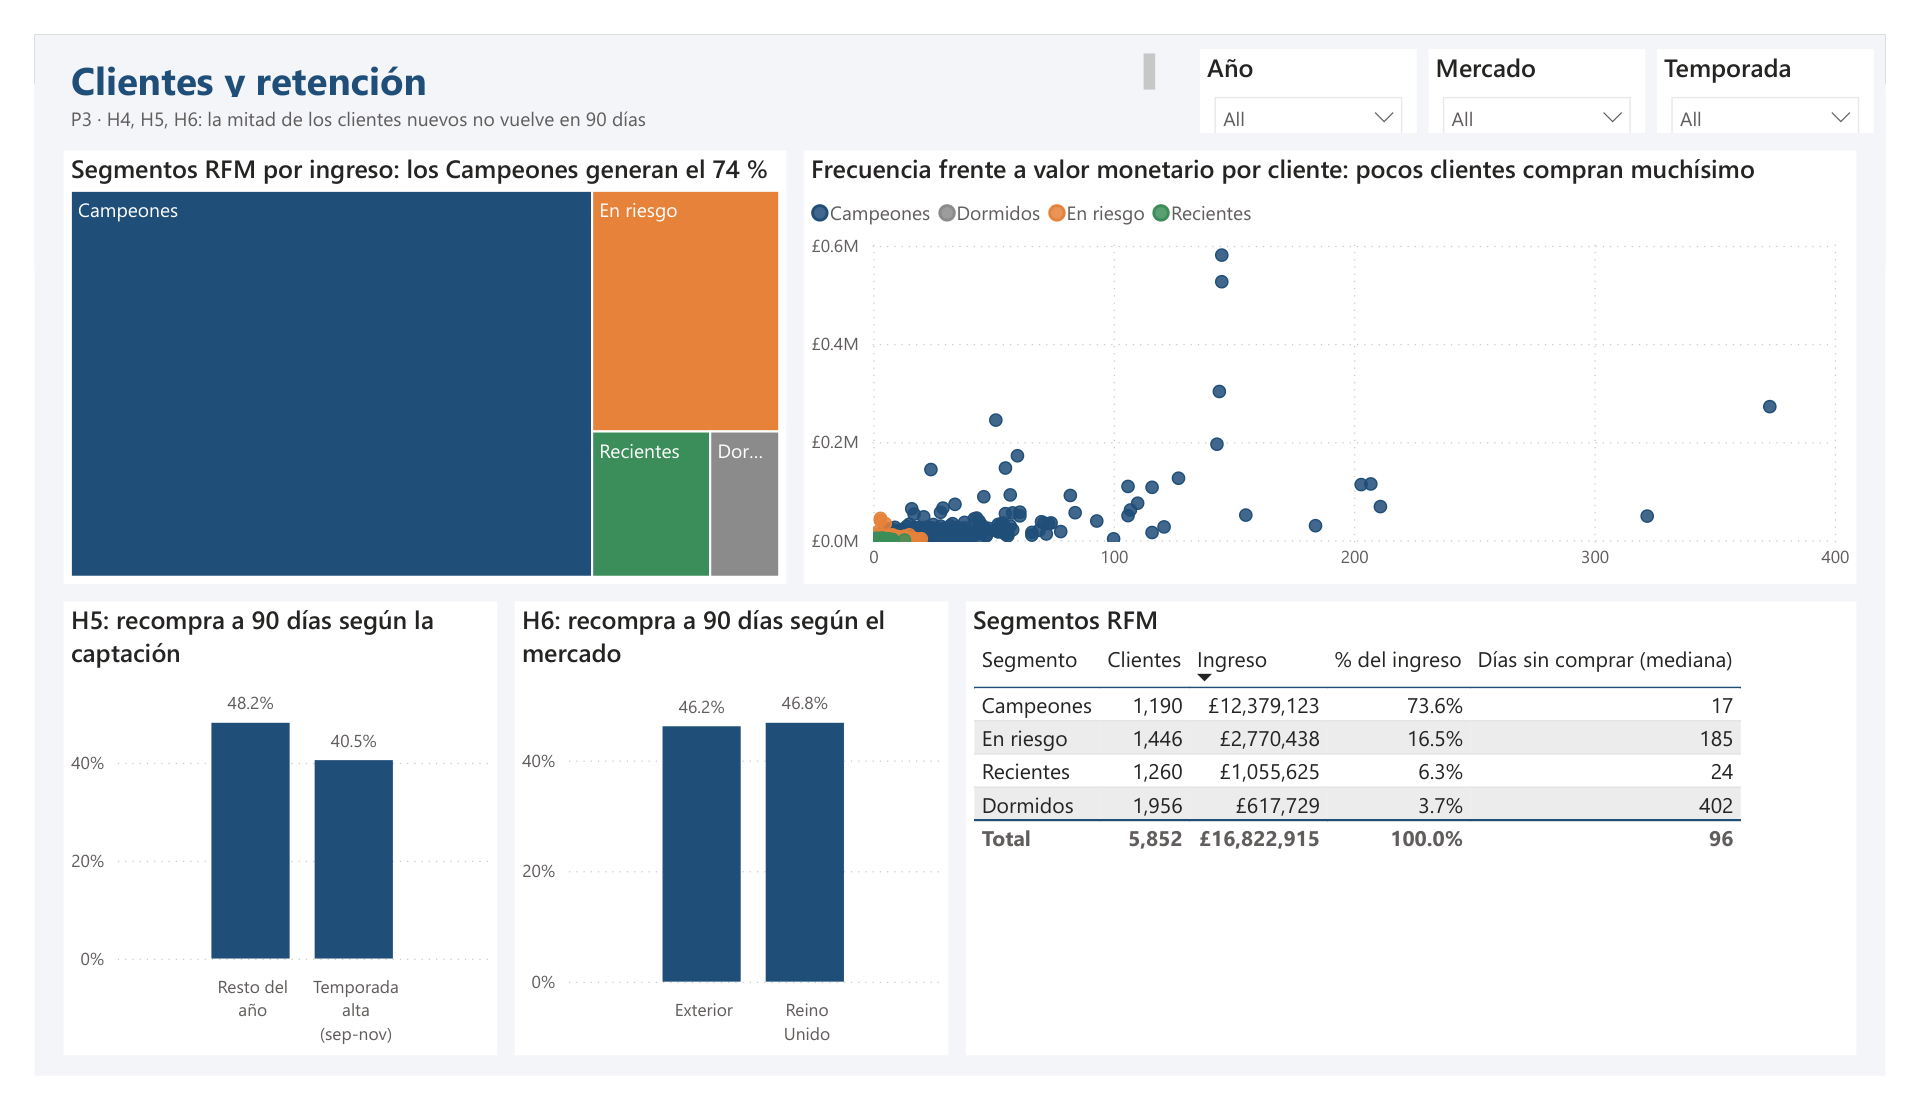

Layout of this report page (visuals, bound fields, positions):
{"tool":"powerbi","page":{"name":"Clientes y retención","canvas":[1280,720],"ordinal":2},"visuals":[{"type":"textbox","box":[20,8,760,40],"z":1000},{"type":"textbox","box":[20,44,760,28],"z":2000},{"type":"slicer","title":"Año","fields":{"Values":["dim_fecha.anio"]},"box":[806,10,150,58],"z":3000},{"type":"slicer","title":"Mercado","fields":{"Values":["dim_pais.pais_grupo"]},"box":[964,10,150,58],"z":4000},{"type":"slicer","title":"Temporada","fields":{"Values":["dim_fecha.temporada"]},"box":[1122,10,150,58],"z":5000},{"type":"treemap","title":"Segmentos RFM por ingreso: los Campeones generan el 74 %","fields":{"Group":["rfm_clientes.segmento"],"Values":["_Medidas.Ingreso RFM"]},"box":[20,80,500,300],"z":6000},{"type":"scatterChart","title":"Frecuencia frente a valor monetario por cliente: pocos clientes compran muchísimo","fields":{"Category":["rfm_clientes.cliente_id"],"Series":["rfm_clientes.segmento"],"X":["_Medidas.Frecuencia RFM"],"Y":["_Medidas.Ingreso RFM"]},"box":[532,80,728,300],"z":7000},{"type":"clusteredColumnChart","title":"H5: recompra a 90 días según la captación","fields":{"Category":["dim_cliente.captacion"],"Y":["_Medidas.Tasa Recompra 90d"]},"box":[20,392,300,314],"z":8000},{"type":"clusteredColumnChart","title":"H6: recompra a 90 días según el mercado","fields":{"Category":["dim_cliente.pais_grupo_cliente"],"Y":["_Medidas.Tasa Recompra 90d"]},"box":[332,392,300,314],"z":9000},{"type":"tableEx","title":"Segmentos RFM","fields":{"Values":["rfm_clientes.segmento","_Medidas.Clientes RFM","_Medidas.Ingreso RFM","_Medidas.% Ingreso RFM","_Medidas.Recencia Mediana"]},"box":[644,392,616,314],"z":10000}]}

Visuals, with their boxes in screenshot pixels (x1, y1, x2, y2), scaled from the page's 1280x720 canvas onto the 1920x1111 screenshot:
textbox: {"x1": 30, "y1": 12, "x2": 1170, "y2": 74}
textbox: {"x1": 30, "y1": 68, "x2": 1170, "y2": 111}
"Año" slicer: {"x1": 1209, "y1": 15, "x2": 1434, "y2": 105}
"Mercado" slicer: {"x1": 1446, "y1": 15, "x2": 1671, "y2": 105}
"Temporada" slicer: {"x1": 1683, "y1": 15, "x2": 1908, "y2": 105}
"Segmentos RFM por ingreso: los Campeones generan el 74 %" treemap: {"x1": 30, "y1": 123, "x2": 780, "y2": 586}
"Frecuencia frente a valor monetario por cliente: pocos clientes compran muchísimo" scatterChart: {"x1": 798, "y1": 123, "x2": 1890, "y2": 586}
"H5: recompra a 90 días según la captación" clusteredColumnChart: {"x1": 30, "y1": 605, "x2": 480, "y2": 1089}
"H6: recompra a 90 días según el mercado" clusteredColumnChart: {"x1": 498, "y1": 605, "x2": 948, "y2": 1089}
"Segmentos RFM" tableEx: {"x1": 966, "y1": 605, "x2": 1890, "y2": 1089}
